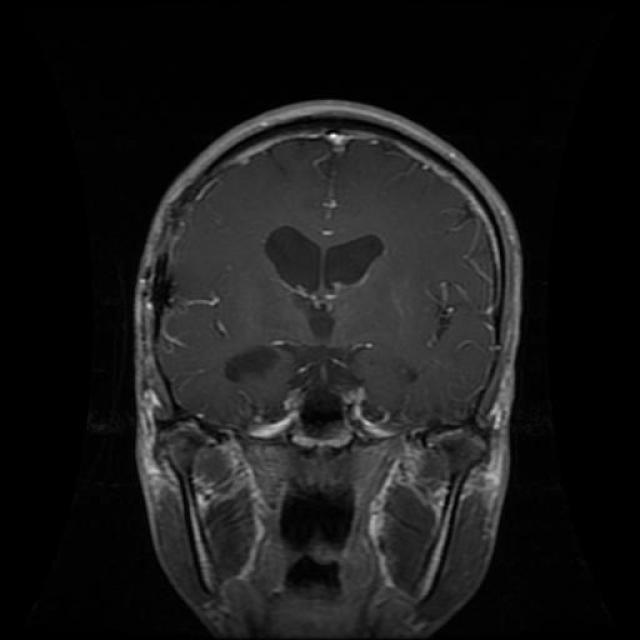glioma: (264, 225, 385, 299)
